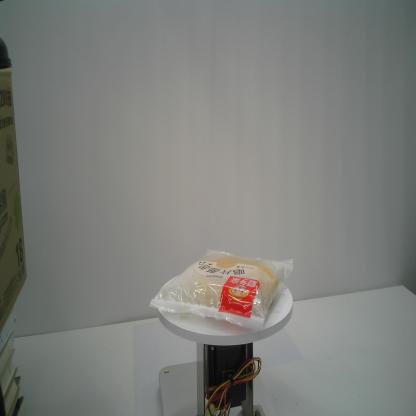Dessert: (148, 244, 294, 331)
